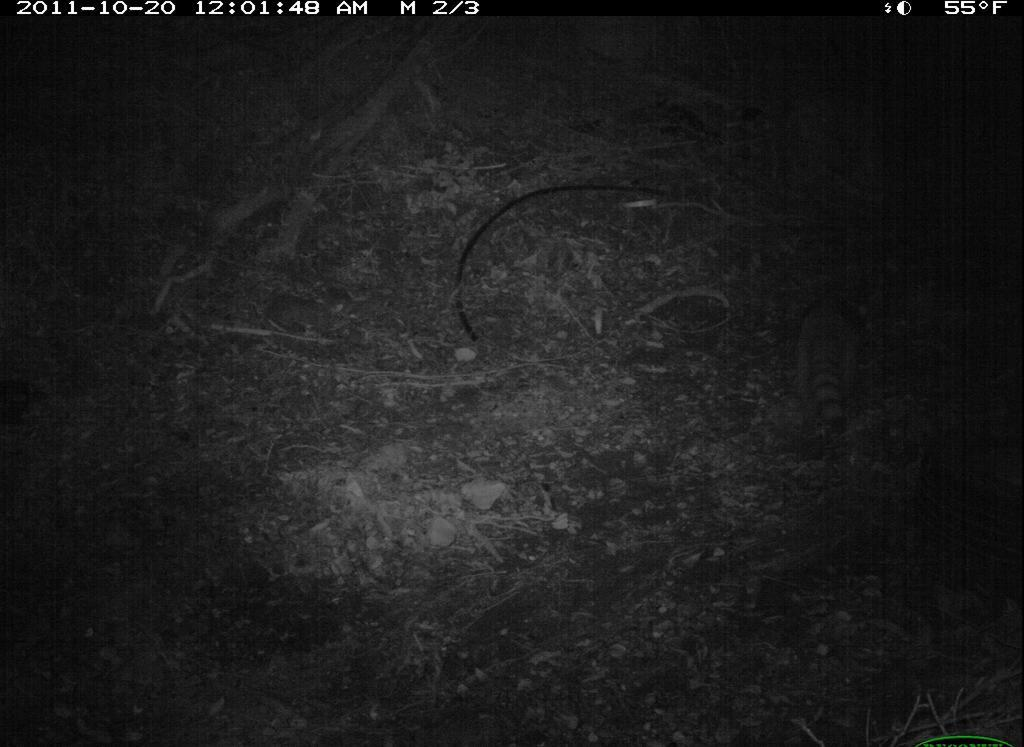raccoon: (784, 271, 904, 442)
